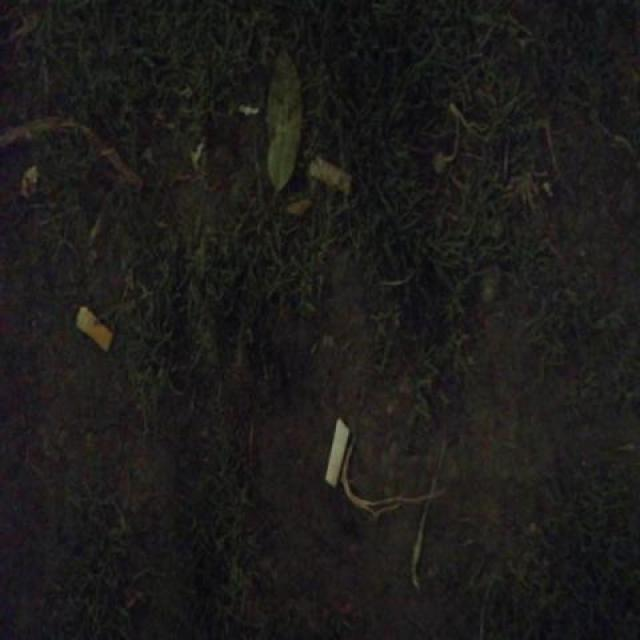non-organic waste: (303, 148, 358, 201), (322, 414, 354, 490), (72, 304, 117, 356)
